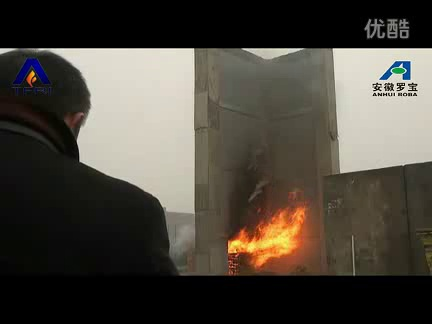fire: (226, 201, 311, 272)
